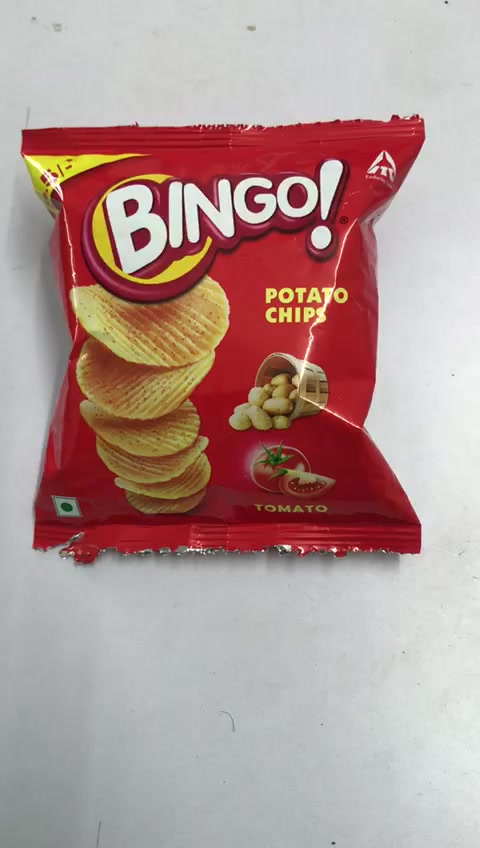bingo: (21, 127, 429, 555)
